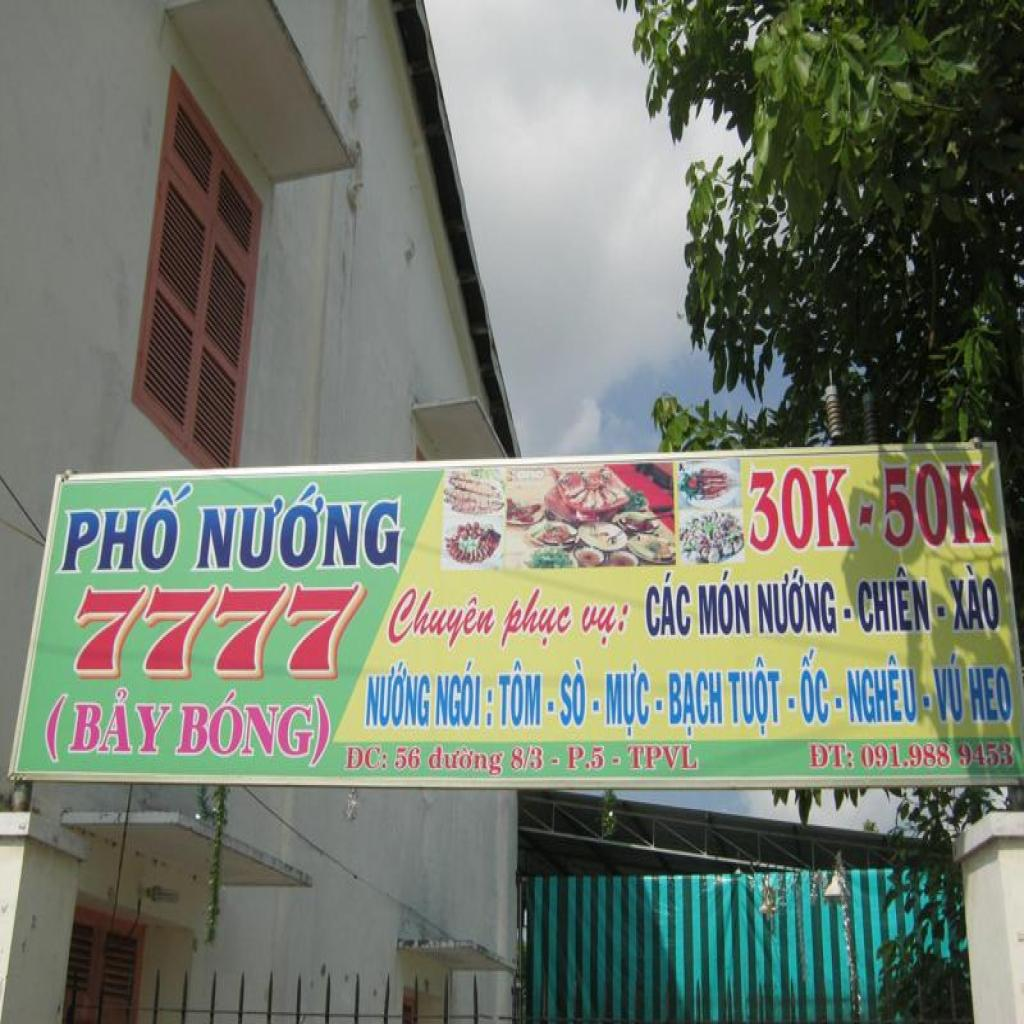text: (59, 582, 371, 684), (190, 476, 410, 577), (55, 481, 195, 575), (880, 464, 994, 553), (745, 468, 859, 554), (175, 689, 315, 758), (66, 686, 178, 756), (383, 587, 503, 652), (756, 568, 840, 638), (846, 655, 920, 729), (856, 566, 933, 636), (497, 584, 577, 650), (363, 661, 434, 732), (727, 655, 783, 741), (947, 563, 1002, 635), (604, 660, 653, 740), (432, 657, 484, 731), (668, 671, 726, 737), (698, 568, 752, 638), (644, 572, 694, 640), (573, 602, 631, 650), (800, 648, 832, 728), (426, 746, 506, 778), (932, 652, 965, 725), (40, 693, 72, 766), (558, 659, 588, 730), (308, 694, 333, 770), (627, 744, 700, 770), (342, 744, 390, 773), (567, 746, 607, 771), (393, 746, 424, 773), (511, 748, 544, 773), (485, 688, 495, 730)
